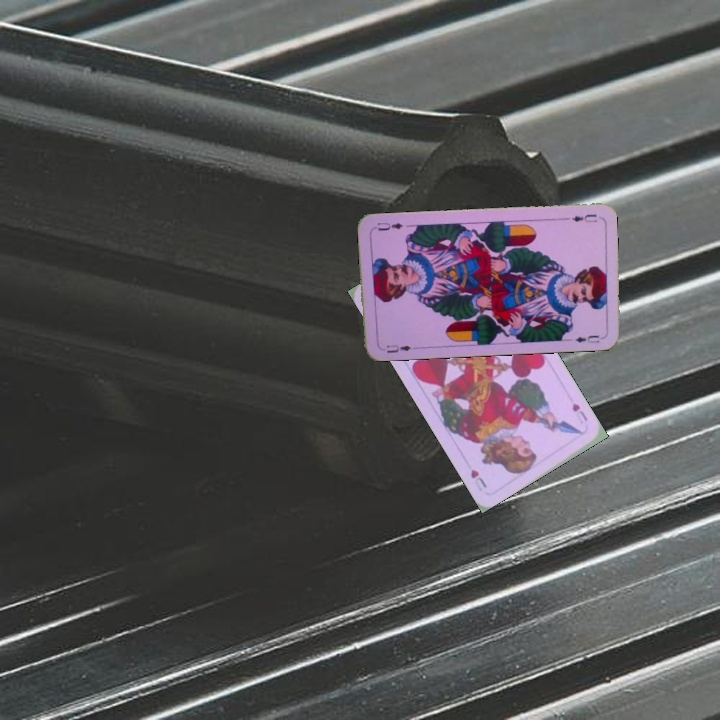EU: (378, 341, 418, 356), (568, 210, 599, 225)
HU: (568, 399, 590, 427)
